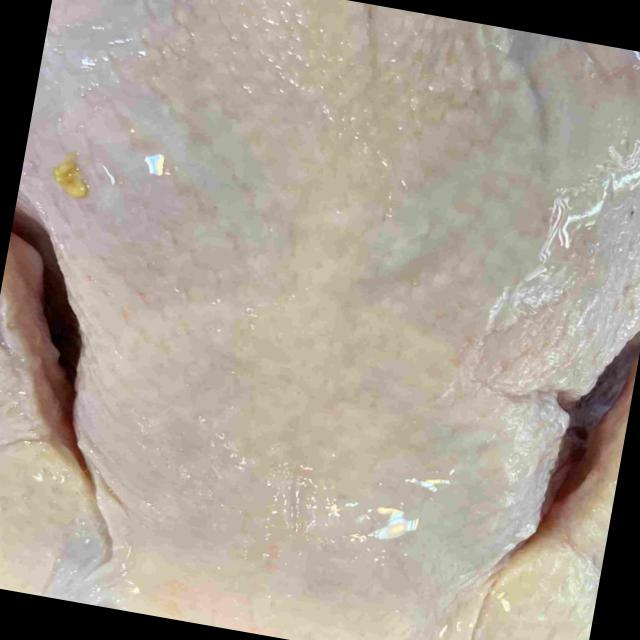back: (26, 0, 640, 555)
wing: (462, 368, 636, 640), (0, 225, 93, 599)
